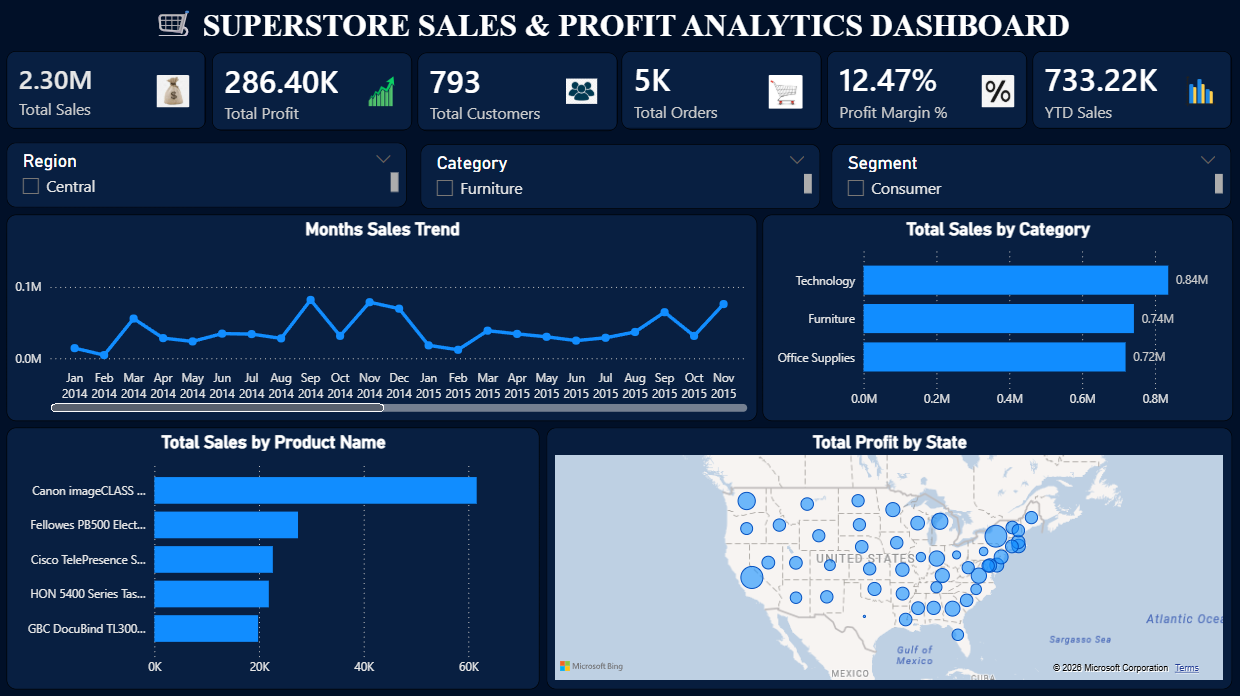

What the dashboard file says about the page in this screenshot:
{"tool":"powerbi","page":{"name":"Executive Dashboard","canvas":[1280,720],"ordinal":0},"visuals":[{"type":"cardVisual","fields":{"Data":["Orders.Total Profit"]},"box":[221.1,56.7,205,80],"z":0},{"type":"cardVisual","fields":{"Data":["Orders.Total Orders"]},"box":[642,56.1,205,80.7],"z":1000},{"type":"cardVisual","fields":{"Data":["Orders.Total Customers"]},"box":[431.5,56.8,205,80.7],"z":2000},{"type":"lineChart","title":"Months Sales Trend","fields":{"Category":["Orders.Order Months"],"Y":["Orders.Total Sales"]},"box":[10,223.3,770,211.7],"z":3000},{"type":"clusteredBarChart","fields":{"Category":["Orders.Category"],"Y":["Orders.Total Sales"]},"box":[786.3,223.5,482.4,211.8],"z":4000},{"type":"map","title":"Total Profit by State","fields":{"Category":["Orders.State"],"Size":["Orders.Total Profit"]},"box":[565,441.7,703.3,268.3],"z":5000},{"type":"clusteredBarChart","fields":{"Category":["Orders.Product Name"],"Y":["Orders.Total Sales"]},"box":[10,441.7,546.7,268.3],"z":6000},{"type":"slicer","fields":{"Values":["Orders.Segment"]},"box":[856.7,150,410,66.7],"z":7000},{"type":"slicer","fields":{"Values":["Orders.Category"]},"box":[435,150,410,66.7],"z":8000},{"type":"cardVisual","fields":{"Data":["Orders.Profit Margin %"]},"box":[852.5,56,205,80.3],"z":9000},{"type":"cardVisual","fields":{"Data":["Orders.YTD Sales"]},"box":[1063,56,204.4,80.3],"z":10000},{"type":"textbox","box":[10,0,1386.7,45],"z":11000},{"type":"slicer","fields":{"Values":["Orders.Region"]},"box":[10.6,149.9,410.3,66.6],"z":12000},{"type":"cardVisual","fields":{"Data":["Orders.Total Sales"]},"box":[10.6,56,204.4,80.3],"z":13000},{"type":"image","box":[162,80.3,39.4,33.3],"z":14000},{"type":"image","box":[375.5,80.3,39.4,33.3],"z":15000},{"type":"image","box":[1215.9,80.3,39.4,33.3],"z":16000},{"type":"image","box":[1008.5,80.3,39.4,33.3],"z":17000},{"type":"image","box":[584.5,72.7,31.8,48.5],"z":18000},{"type":"image","box":[788.9,80.3,40.9,34.8],"z":19000}]}

Visuals, with their boxes in screenshot pixels (x1, y1, x2, y2), scaled from the page's 1280x720 canvas onto the 1240x696 screenshot:
cardVisual - Orders.Total Profit: bbox(214, 55, 413, 132)
cardVisual - Orders.Total Orders: bbox(622, 54, 821, 132)
cardVisual - Orders.Total Customers: bbox(418, 55, 617, 133)
"Months Sales Trend" lineChart: bbox(10, 216, 756, 420)
clusteredBarChart - Orders.Category x Orders.Total Sales: bbox(762, 216, 1229, 421)
"Total Profit by State" map: bbox(547, 427, 1229, 686)
clusteredBarChart - Orders.Product Name x Orders.Total Sales: bbox(10, 427, 539, 686)
slicer - Orders.Segment: bbox(830, 145, 1227, 209)
slicer - Orders.Category: bbox(421, 145, 819, 209)
cardVisual - Orders.Profit Margin %: bbox(826, 54, 1024, 132)
cardVisual - Orders.YTD Sales: bbox(1030, 54, 1228, 132)
textbox: bbox(10, 0, 1239, 44)
slicer - Orders.Region: bbox(10, 145, 408, 209)
cardVisual - Orders.Total Sales: bbox(10, 54, 208, 132)
image: bbox(157, 78, 195, 110)
image: bbox(364, 78, 402, 110)
image: bbox(1178, 78, 1216, 110)
image: bbox(977, 78, 1015, 110)
image: bbox(566, 70, 597, 117)
image: bbox(764, 78, 804, 111)
